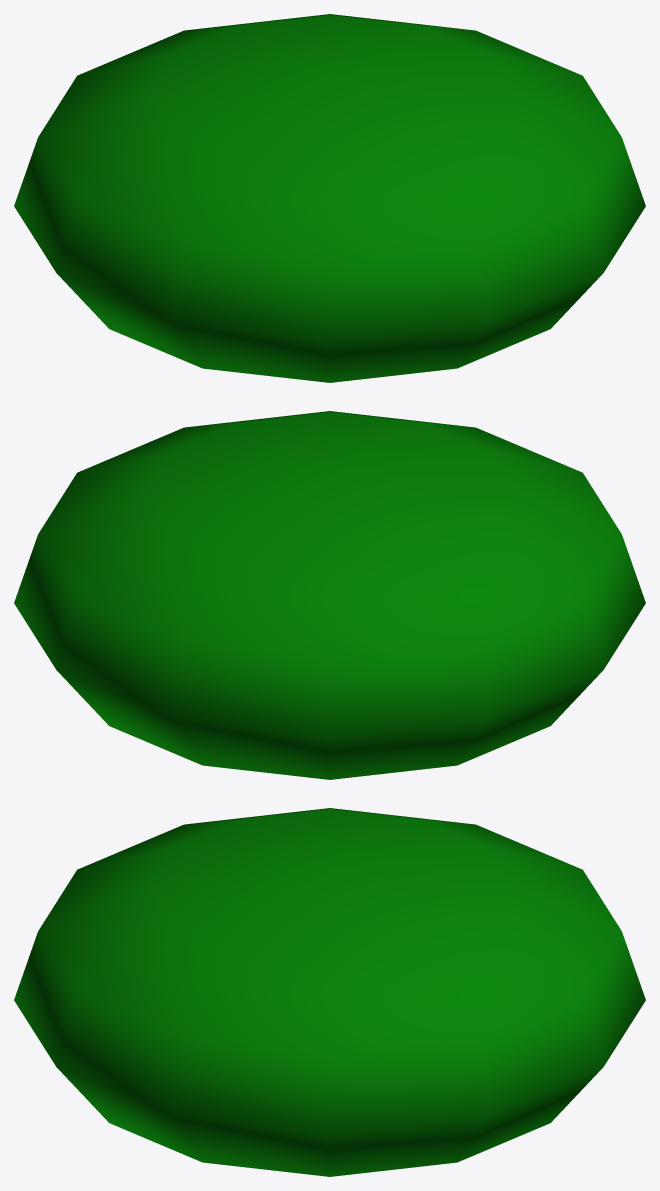
Rendered from greenPaint.glb.
The picture shows the model from 3 angles, top to bottom: view 1: azimuth 30°, elevation 25°; view 2: azimuth 150°, elevation 25°; view 3: azimuth 270°, elevation 25°; orthographic projection.
Parts seen in each view (by area): view 1: greenPaintBlob; view 2: greenPaintBlob; view 3: greenPaintBlob.
Boxes of the visible parts, x1,y1,x2,y2 form: greenPaintBlob: [14, 14, 645, 382]; greenPaintBlob: [14, 411, 645, 779]; greenPaintBlob: [14, 808, 645, 1176].
Bounding box in the file's own units: 0.9923 × 0.4082 × 0.9923.
1 material, 1 textured.
